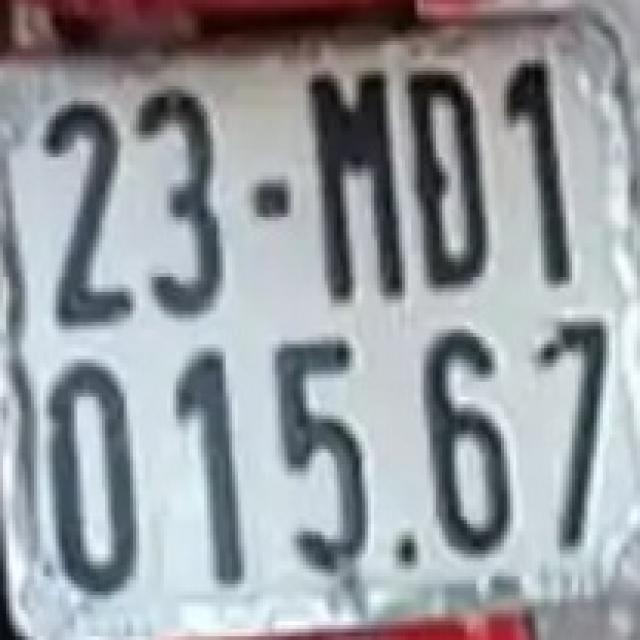0: (46, 356, 142, 595)
1: (170, 344, 250, 592), (504, 60, 581, 288)
2: (40, 94, 136, 326)
3: (136, 86, 229, 318)
5: (272, 337, 371, 572)
6: (421, 326, 516, 554)
7: (535, 314, 612, 550)
D: (411, 68, 492, 288)
M: (304, 58, 410, 309)
